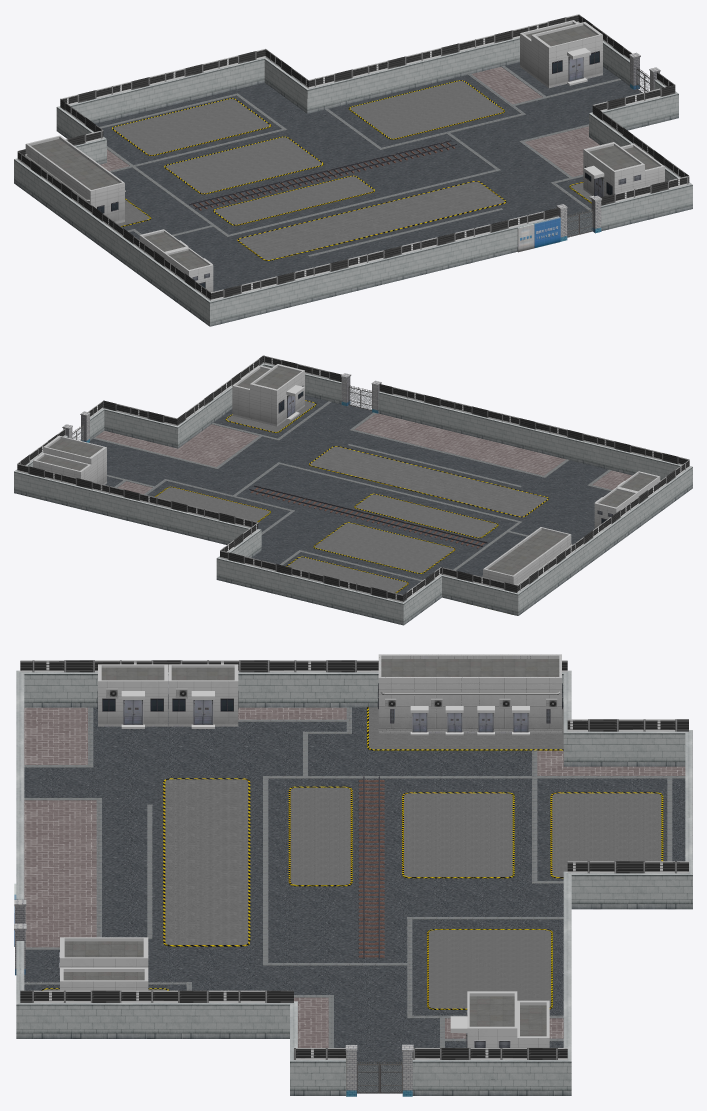
File: substation_ht_1005_01.obj
3 views of the same model, one above another, from view 1: azimuth 30°, elevation 25°; view 2: azimuth 150°, elevation 25°; view 3: azimuth 270°, elevation 25° (orthographic). The views are drawn at different scales.
Visible parts, largest first — view 1: Plane001, object 10, object 11, object 1, object 2, Box135, object 4, object 3, object 7, object 8, object 16, object 5 (+5 smaller); view 2: Plane001, object 10, object 11, object 1, Box135, object 3, object 16, object 8, object 5, object 7, object 4, object 2 (+5 smaller); view 3: Plane001, object 10, object 8, object 1, object 11, Box135, object 3, object 2, object 12, object 4, object 5, object 16 (+4 smaller).
Part boxes in pixels (x1,y1,x2,y2): Plane001: (95, 62, 641, 291); object 10: (14, 23, 692, 326); object 11: (17, 14, 689, 300); object 1: (237, 181, 506, 260); object 2: (348, 80, 504, 139); Box135: (99, 65, 620, 256); object 4: (112, 98, 271, 155); object 3: (164, 136, 323, 194); object 7: (520, 20, 602, 88); object 8: (25, 135, 125, 223); object 16: (583, 142, 664, 199); object 5: (213, 175, 374, 225); Plane001: (89, 395, 632, 594); object 10: (14, 363, 692, 625); object 11: (17, 355, 689, 602); object 1: (309, 446, 548, 517); Box135: (93, 401, 612, 581); object 3: (313, 522, 455, 573); object 16: (232, 364, 304, 426); object 8: (482, 527, 572, 585); object 5: (354, 493, 498, 538); object 7: (33, 435, 106, 484); object 4: (286, 556, 408, 593); object 2: (155, 486, 270, 522); Plane001: (24, 707, 685, 1093); object 10: (16, 670, 692, 1095); object 8: (378, 654, 562, 735); object 1: (163, 778, 250, 946); object 11: (20, 660, 688, 1059); Box135: (24, 707, 685, 1047); object 3: (402, 792, 514, 878); object 2: (427, 929, 552, 1009); object 12: (97, 664, 238, 728); object 4: (550, 792, 663, 878); object 5: (288, 786, 352, 886); object 16: (59, 937, 148, 990).
Size of the model in its own units: 923 by 64.91 by 676.
15 materials, 15 textured.
